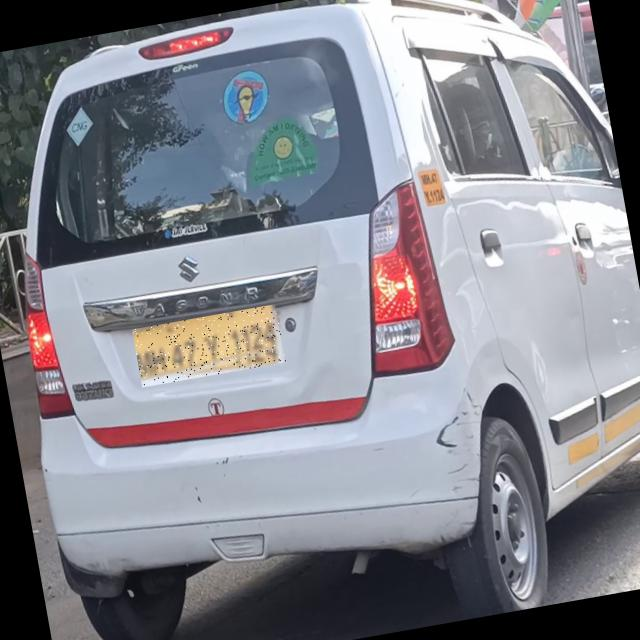Plate: (133, 305, 287, 388)
